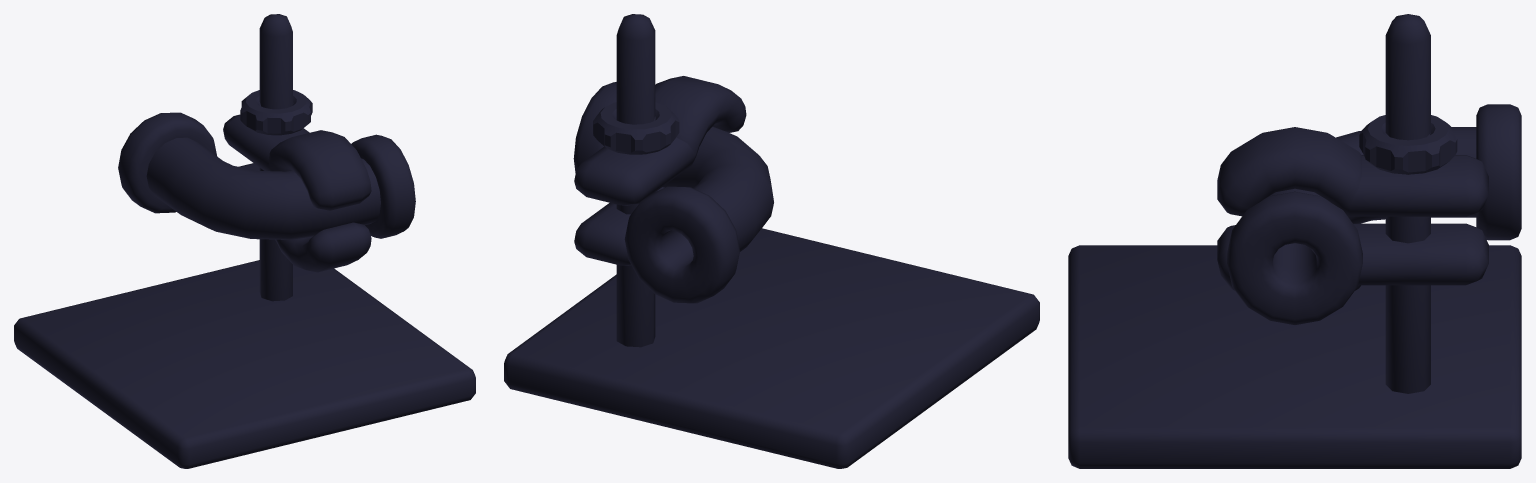
Rendered from Constructing_Pipe_Curve_Flip.fbx.
3 views of the same model, side by side, from view 1: azimuth 30°, elevation 25°; view 2: azimuth 150°, elevation 25°; view 3: azimuth 270°, elevation 25° (orthographic). The views are drawn at different scales.
Parts seen in each view (by area): view 1: Stand_Base_Small001; view 2: Stand_Base_Small001; view 3: Stand_Base_Small001.
Part boxes in pixels (x1,y1,x2,y2): Stand_Base_Small001: [14, 14, 475, 468]; Stand_Base_Small001: [504, 14, 1039, 468]; Stand_Base_Small001: [1068, 14, 1521, 468].
Size of the model in its own units: 100 by 100 by 100.
